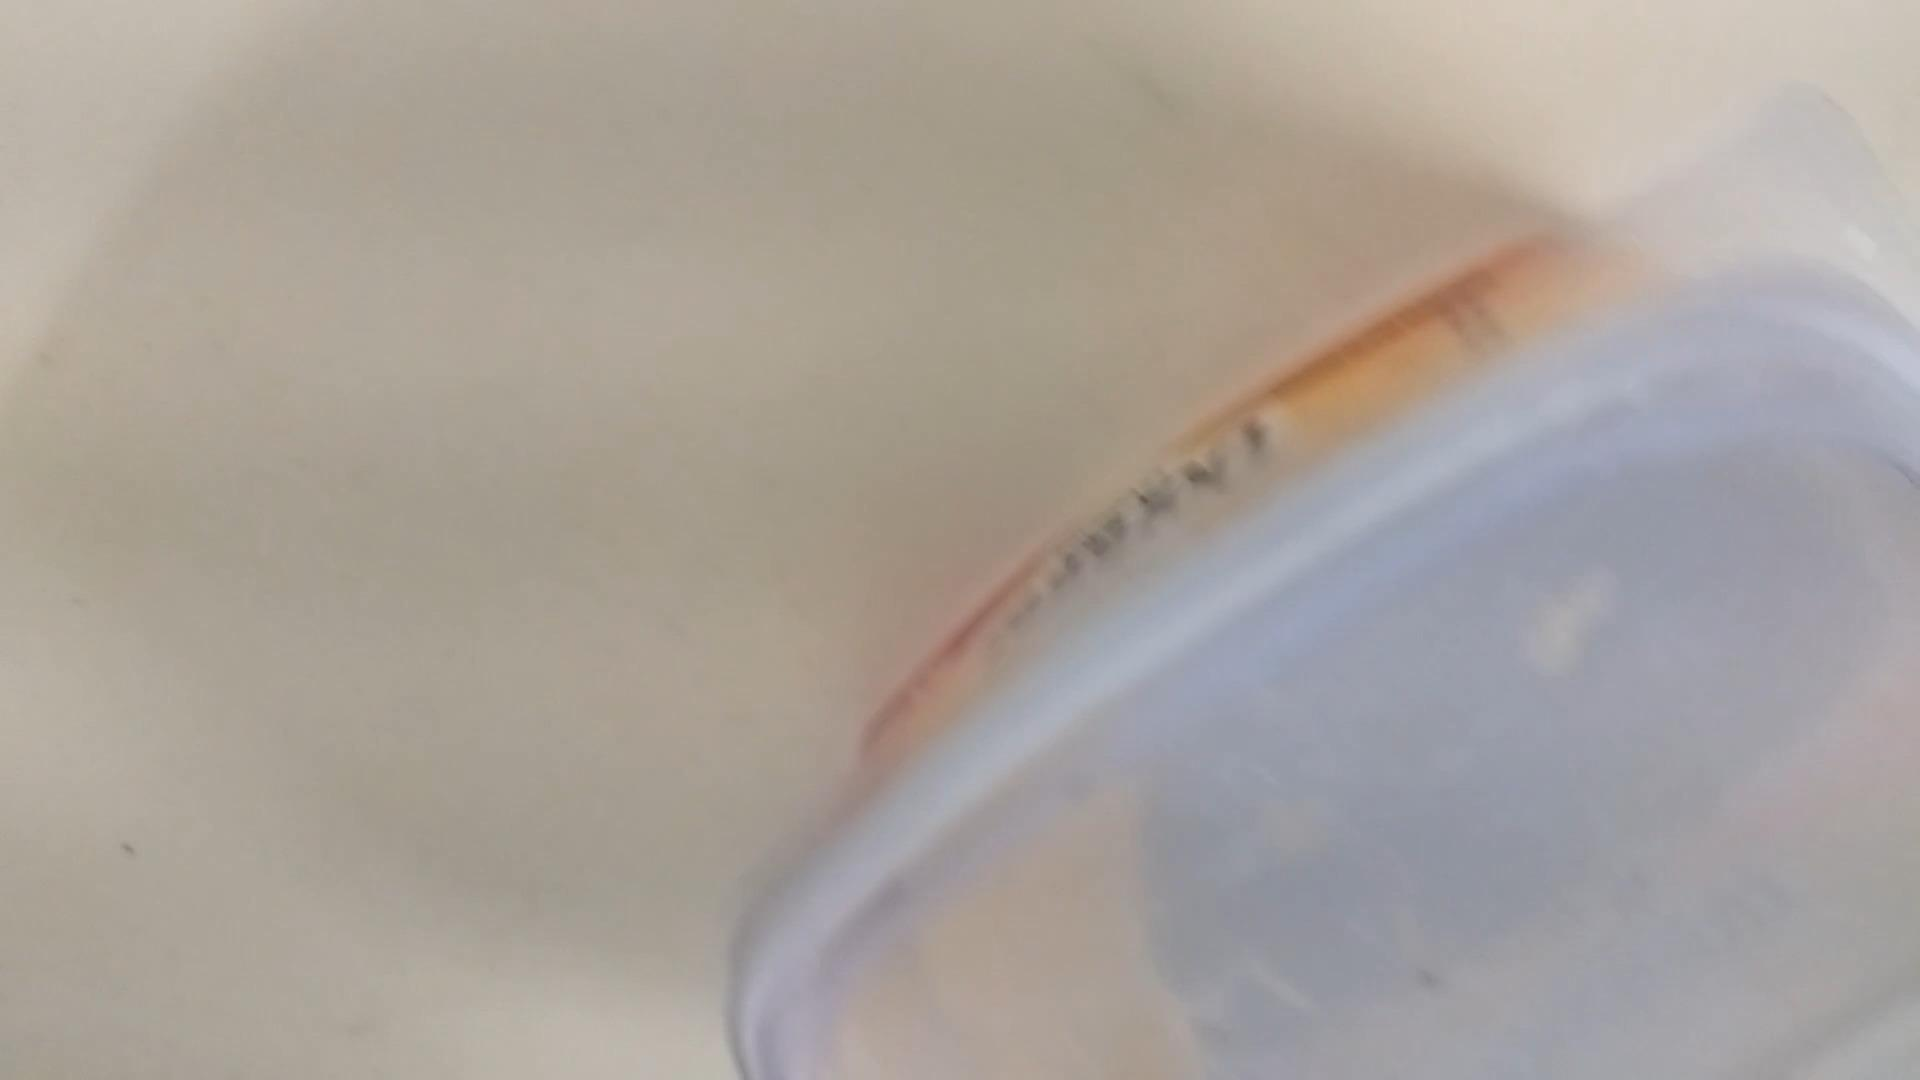butter: (736, 109, 1920, 1073)
